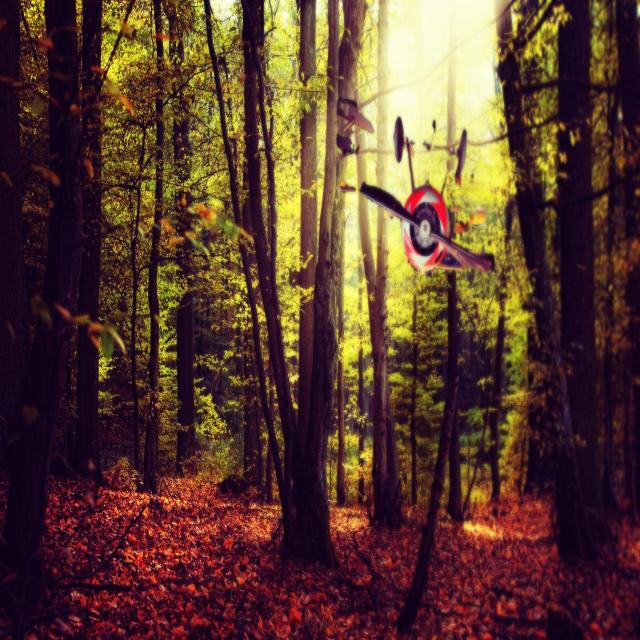airplane: (356, 115, 495, 277)
